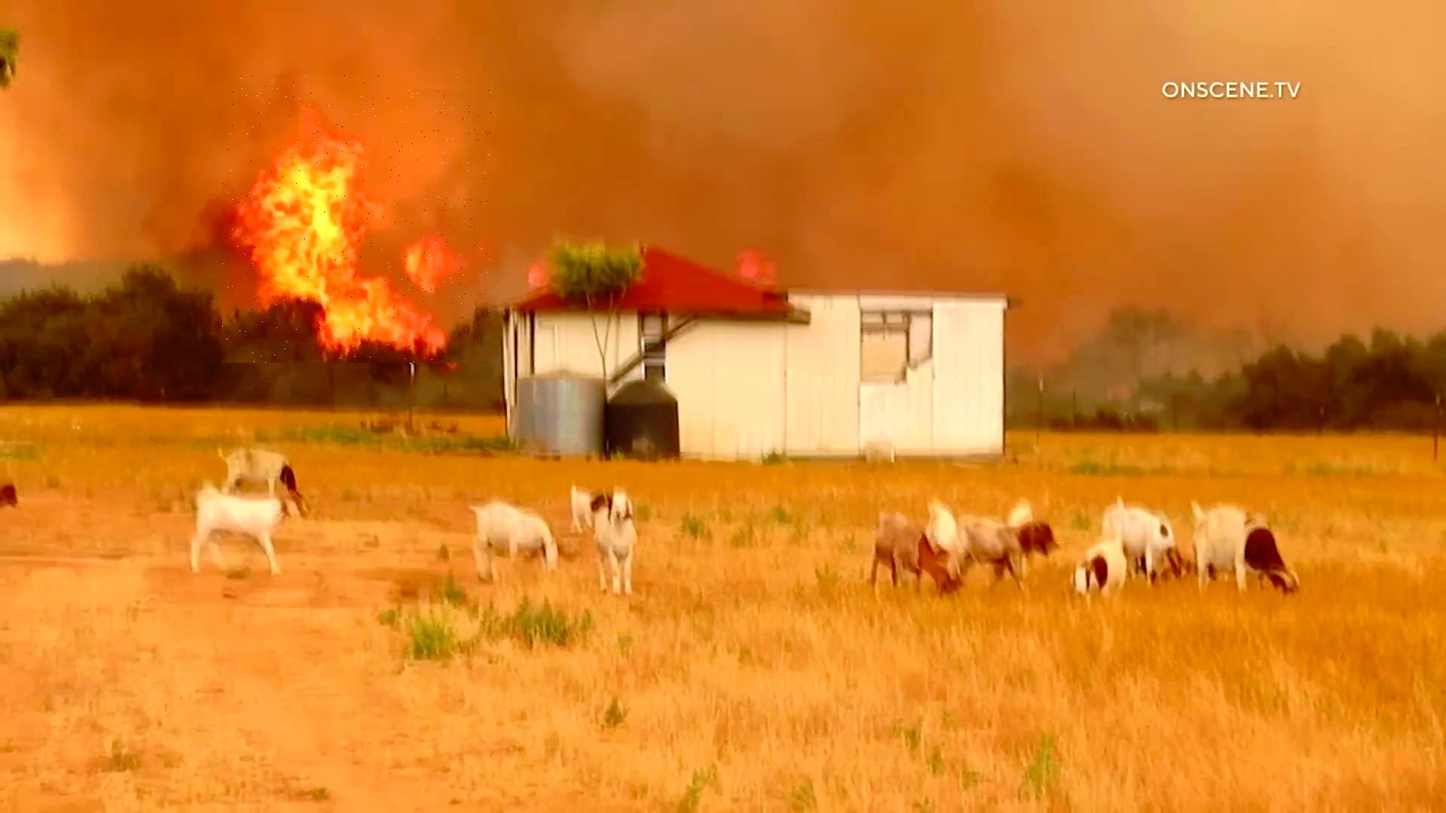fire: (223, 76, 493, 365)
